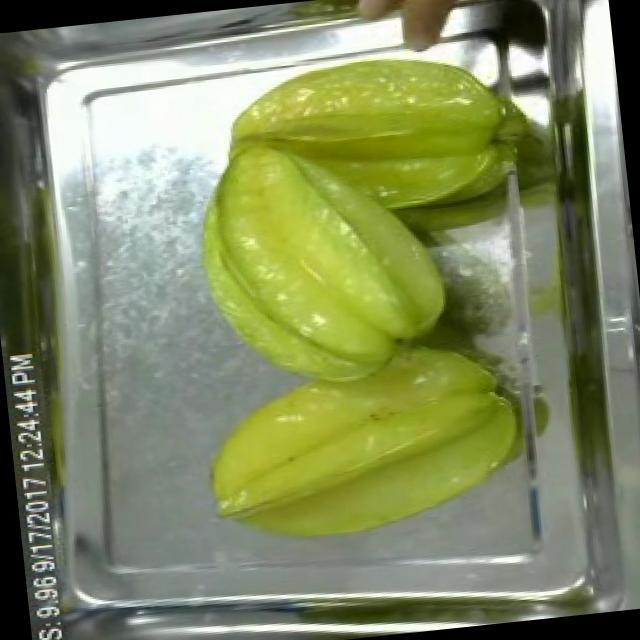fruit: (180, 312, 546, 566), (182, 114, 470, 402), (200, 26, 536, 244)
